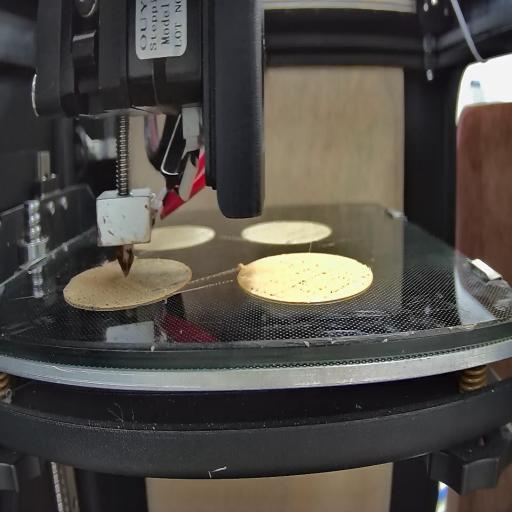under_extrusion: (288, 258, 365, 298), (64, 284, 117, 307), (150, 276, 186, 300), (247, 283, 278, 305)
